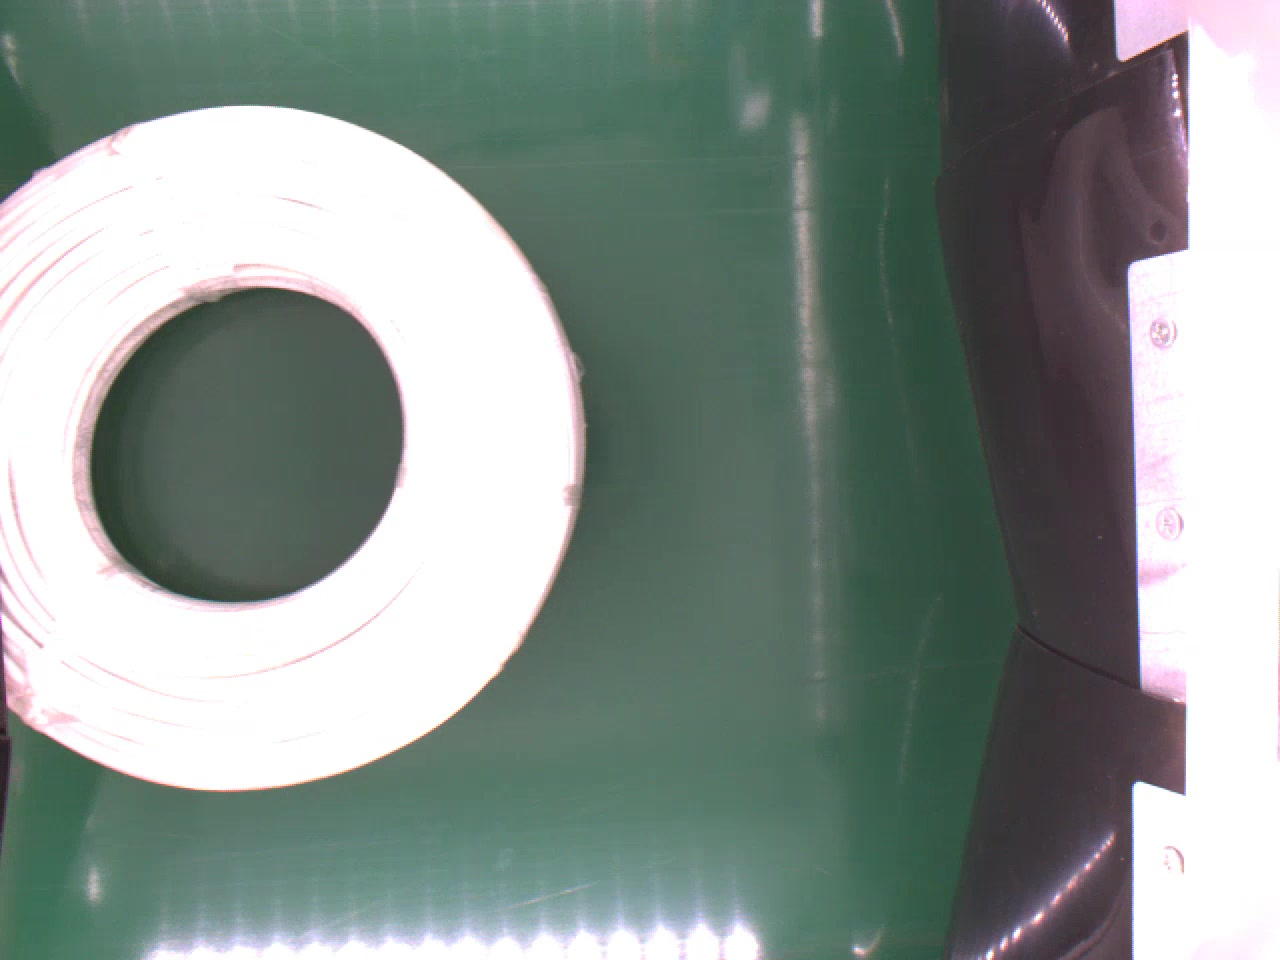white: (0, 103, 583, 794)
